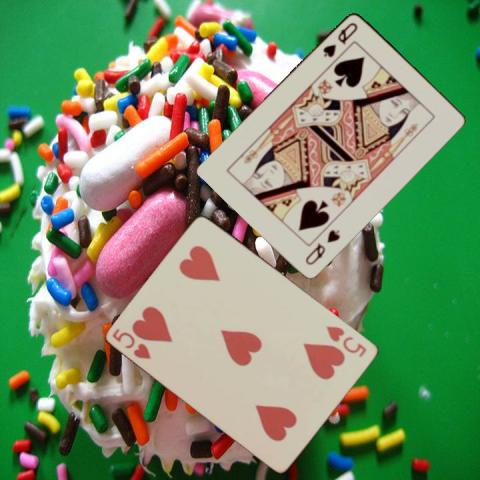5h: (322, 322, 369, 359), (110, 325, 154, 361)
Qs: (320, 19, 360, 59), (302, 226, 341, 266)
